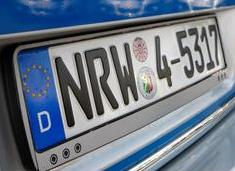1: (200, 25, 216, 70)
3: (187, 26, 206, 74)
4: (154, 33, 174, 88)
5: (174, 29, 195, 79)
7: (207, 23, 220, 66)
N: (55, 51, 95, 127)
R: (84, 47, 120, 116)
W: (109, 42, 140, 106)
